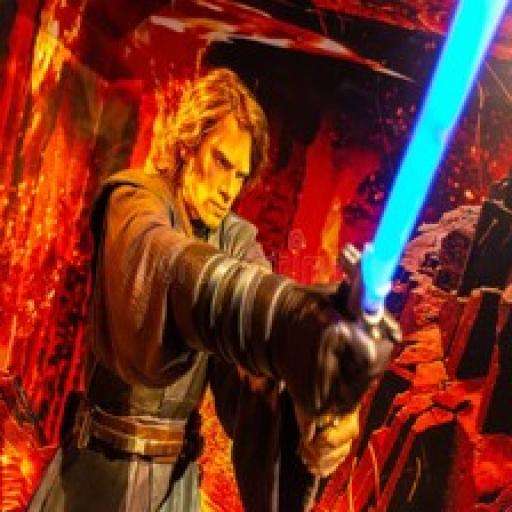human: (12, 63, 398, 512)
lightsaber: (298, 0, 510, 470)
